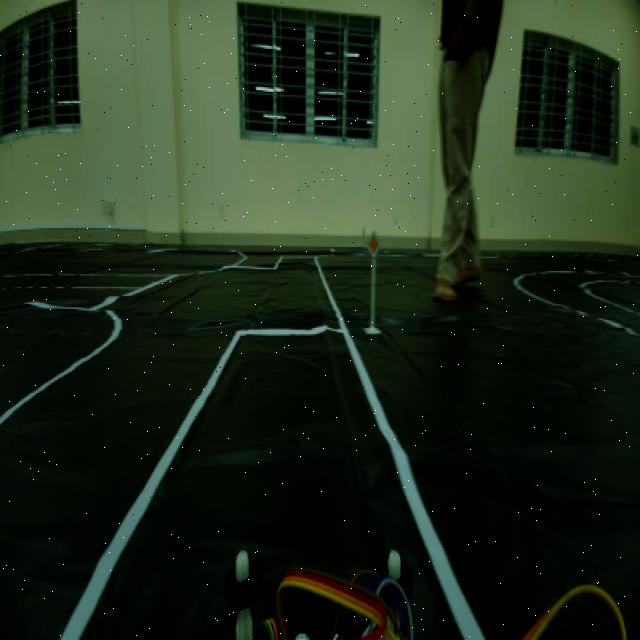priority: (367, 226, 381, 260)
